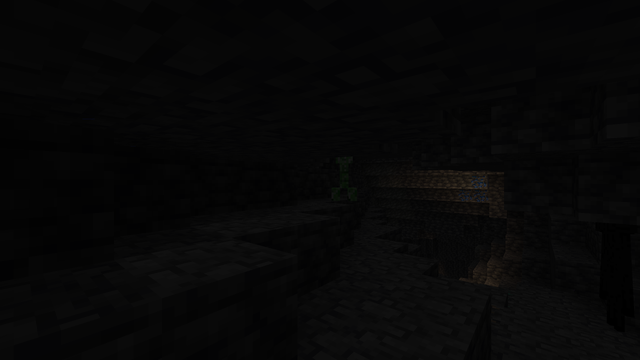creepers: (330, 157, 357, 200)
endermens: (595, 235, 637, 337)
